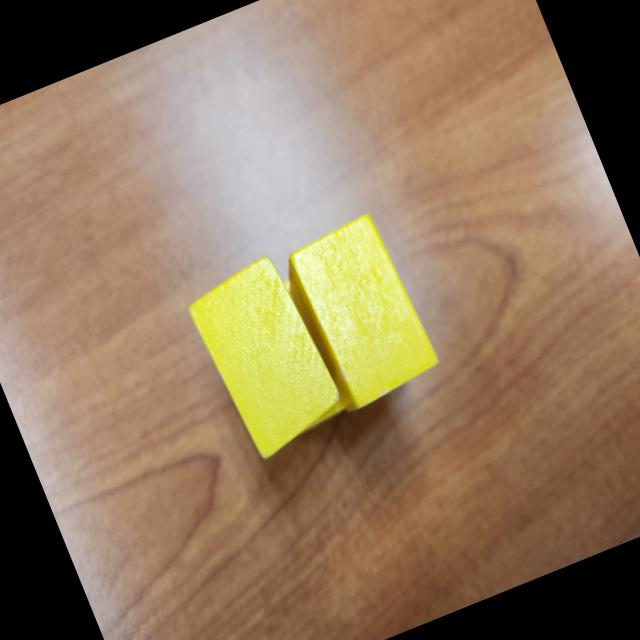yellow: (182, 249, 356, 465), (275, 207, 445, 416), (236, 269, 358, 437)
